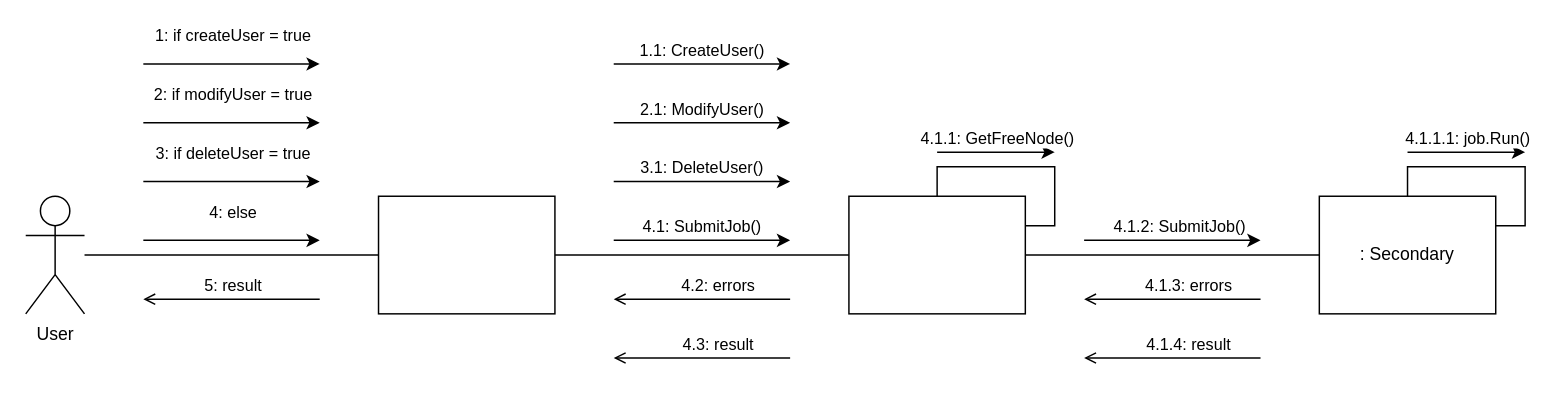
The diagram is 1563 pixels wide and 395 high, and some of its shapes have lost their labels. Here are the shapes that lost their labels. From the top down, the centre of each, then its label:
[466,254]: : Client
[936,254]: : Primary
